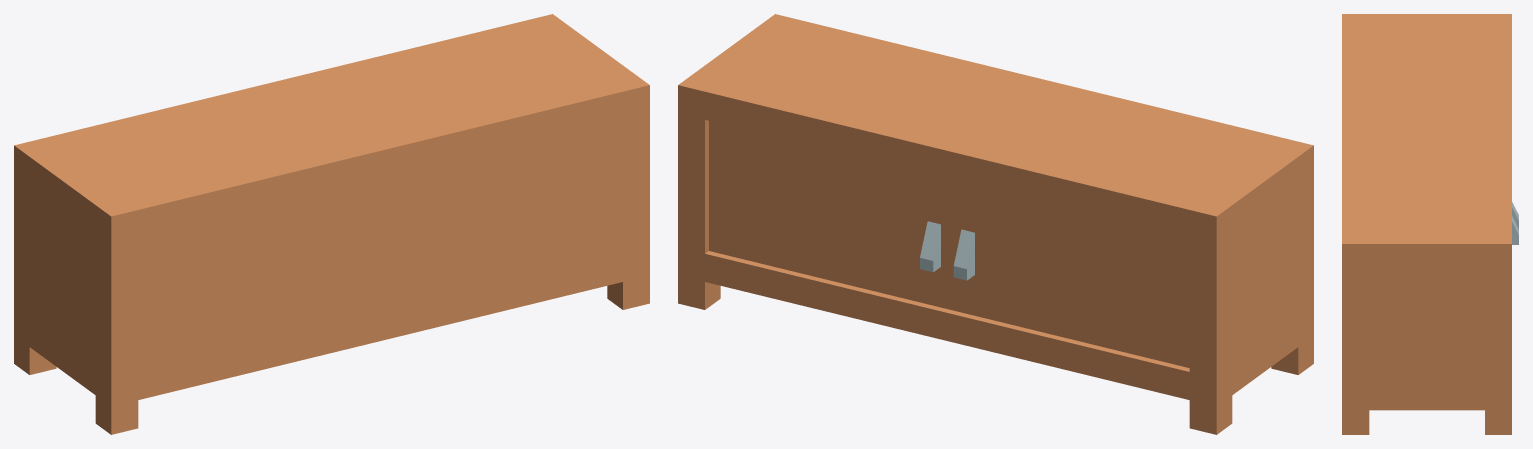
Rendered from Cabinet Television Doo.glb.
The picture shows the model from 3 angles, left to right: view 1: azimuth 30°, elevation 25°; view 2: azimuth 150°, elevation 25°; view 3: azimuth 270°, elevation 25°; orthographic projection. The views are drawn at different scales.
Parts seen in each view (by area): view 1: cabinetTelevisionDoors; view 2: cabinetTelevisionDoors, doorLeft, doorRight; view 3: cabinetTelevisionDoors.
Boxes of the visible parts, left/top/right/bottom form: cabinetTelevisionDoors: left=14, top=14, right=649, bottom=434; cabinetTelevisionDoors: left=678, top=14, right=1313, bottom=434; doorLeft: left=709, top=121, right=951, bottom=309; doorRight: left=951, top=180, right=1189, bottom=367; cabinetTelevisionDoors: left=1342, top=14, right=1511, bottom=434.
Bounding box in the file's own units: 0.8 × 0.31 × 0.26.
